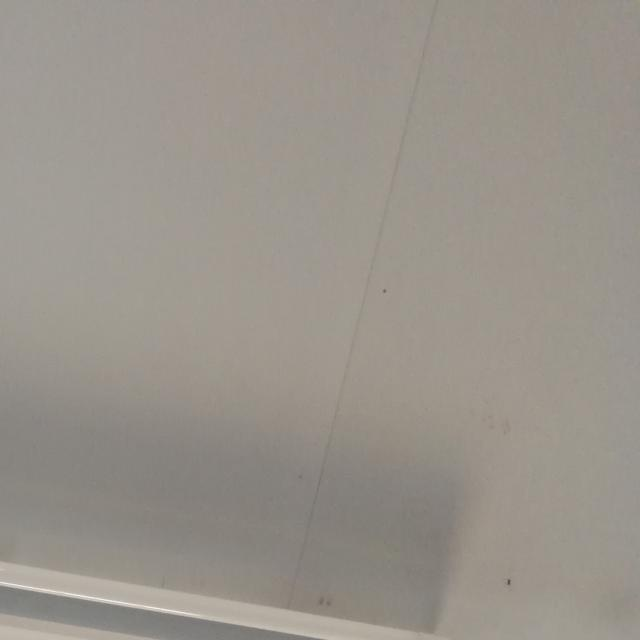fluorescent tube: (0, 458, 465, 640)
